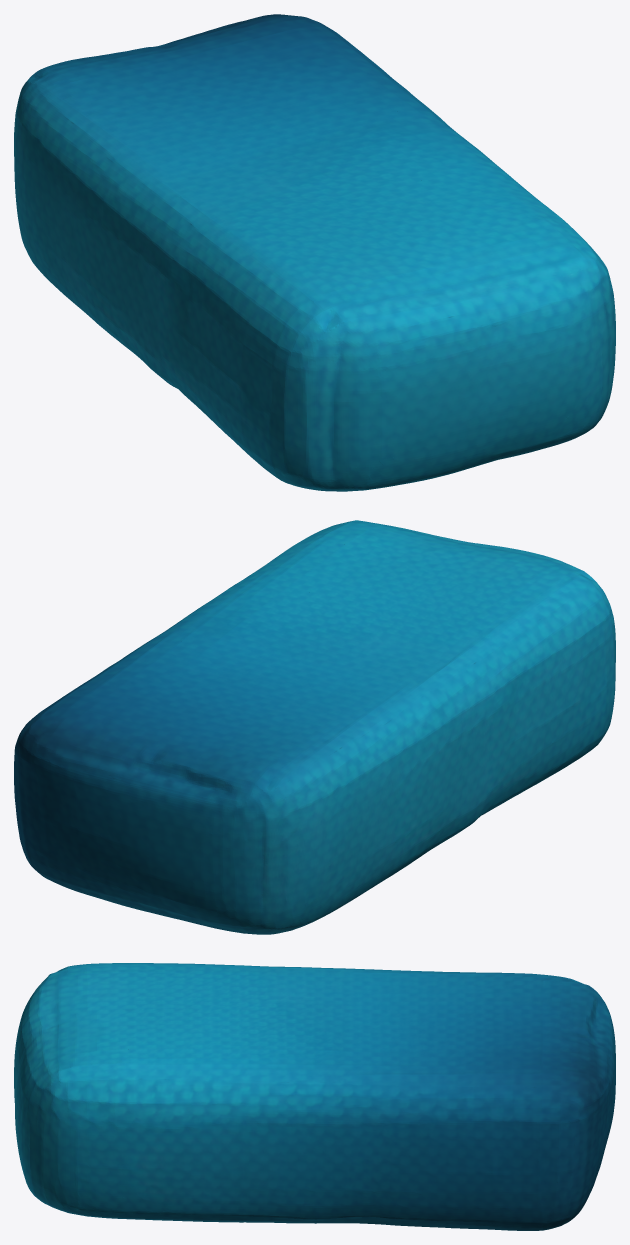
File: object_mesh_scaled_final_textured.glb
3 renders of one model, top to bottom at view 1: azimuth 30°, elevation 25°; view 2: azimuth 150°, elevation 25°; view 3: azimuth 270°, elevation 25°, orthographic. The views are drawn at different scales.
Visible parts, largest first — view 1: world; view 2: world; view 3: world.
Part boxes in pixels (x1,y1,x2,y2): world: (14, 14, 615, 491); world: (14, 520, 615, 934); world: (14, 963, 615, 1230).
Bounding box in the file's own units: 0.0902 × 0.0475 × 0.1595.
1 material, 1 textured.
